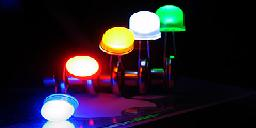LED: (95, 25, 138, 61), (38, 92, 81, 123), (61, 50, 101, 81), (129, 8, 161, 43), (159, 5, 187, 37)
